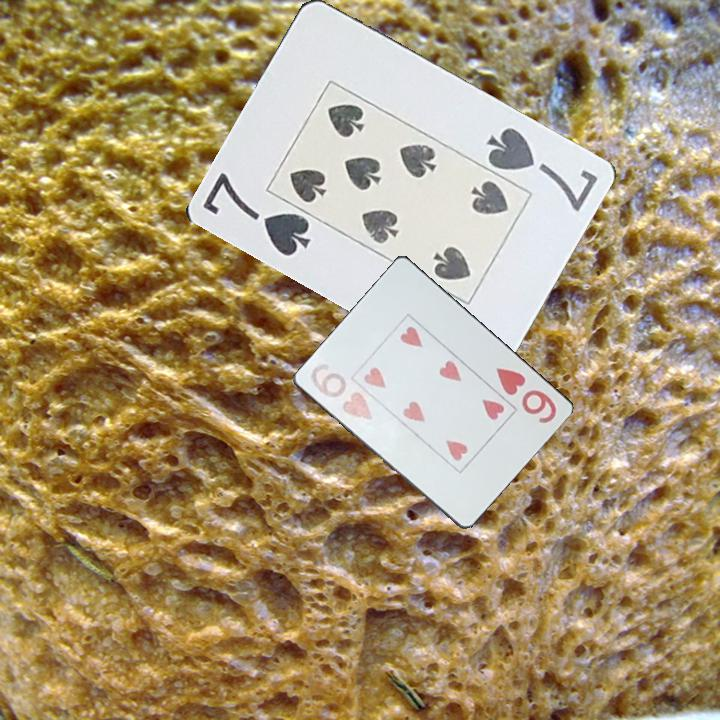6h: (303, 358, 375, 426), (492, 364, 559, 426)
7s: (482, 123, 601, 215), (198, 169, 314, 260)
